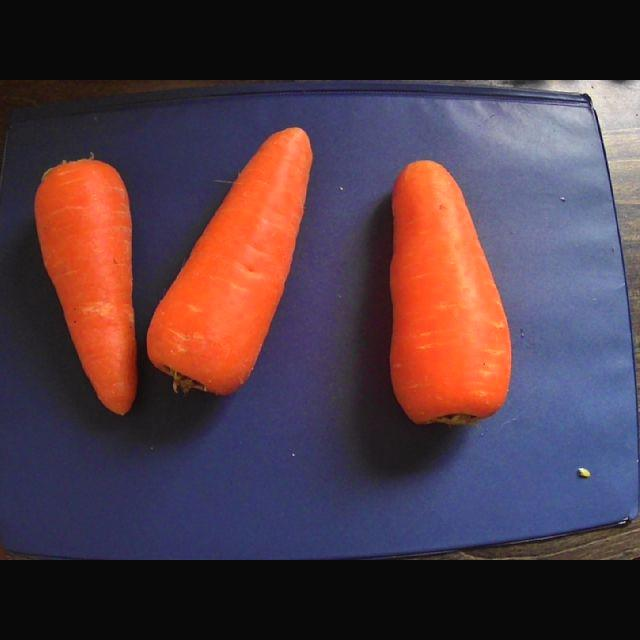zanahoria: (147, 128, 312, 394), (390, 160, 511, 424), (35, 159, 137, 414)
